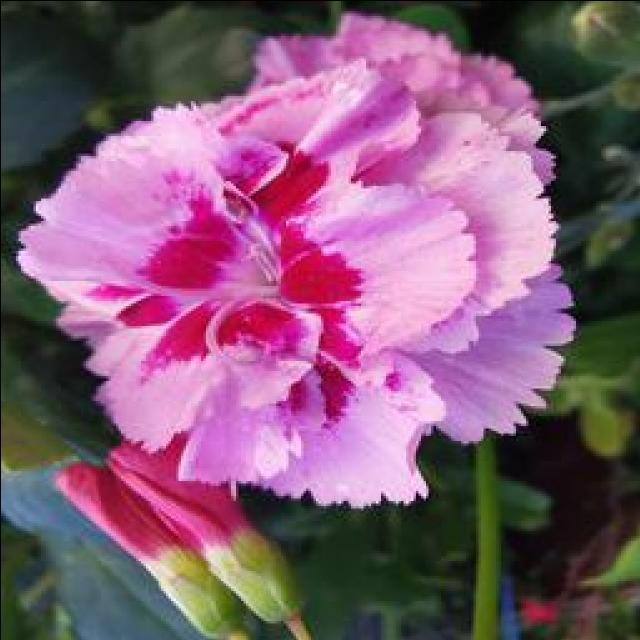carnation: (38, 4, 567, 508)
